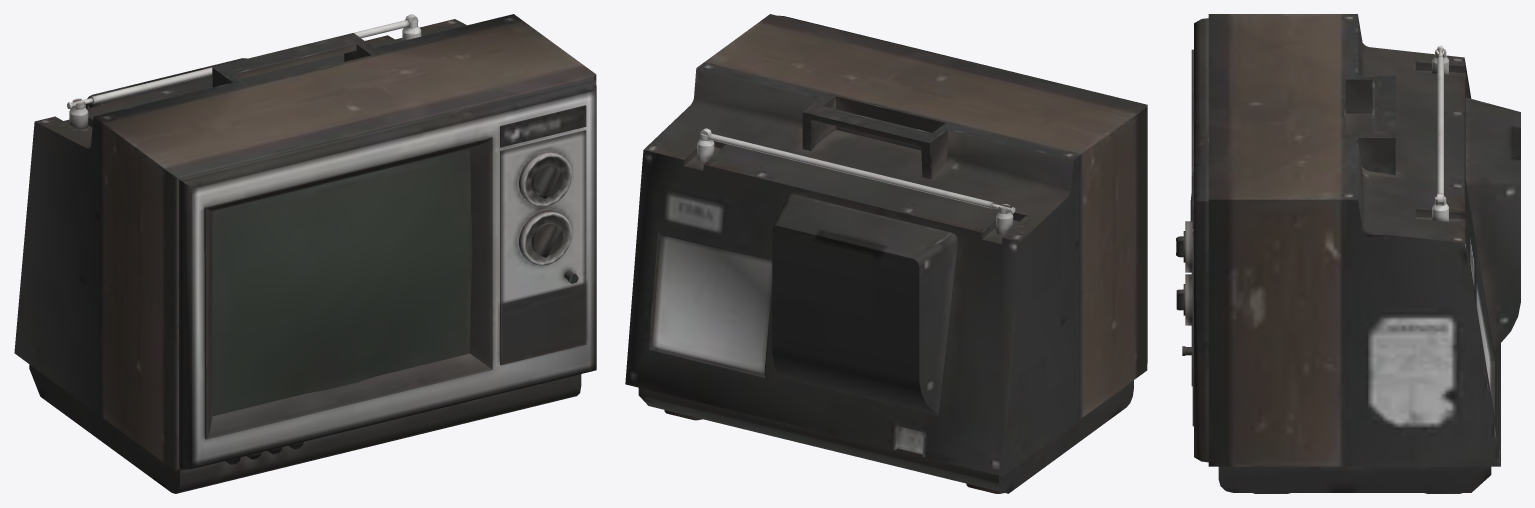
3 views of the same model, side by side, from view 1: azimuth 30°, elevation 25°; view 2: azimuth 150°, elevation 25°; view 3: azimuth 270°, elevation 25° (orthographic). The views are drawn at different scales.
Visible parts, largest first — view 1: Television_01; view 2: Television_01; view 3: Television_01.
Part boxes in pixels (x1,y1,x2,y2): Television_01: (14,14,596,493); Television_01: (625,14,1147,493); Television_01: (1176,14,1520,493).
Size of the model in its own units: 0.6 by 0.4569 by 0.4708.
1 material, 1 textured.
